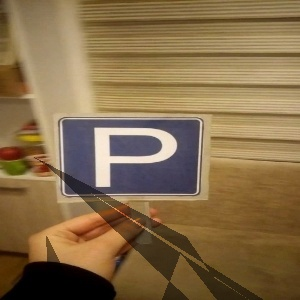park: (61, 120, 204, 197)
